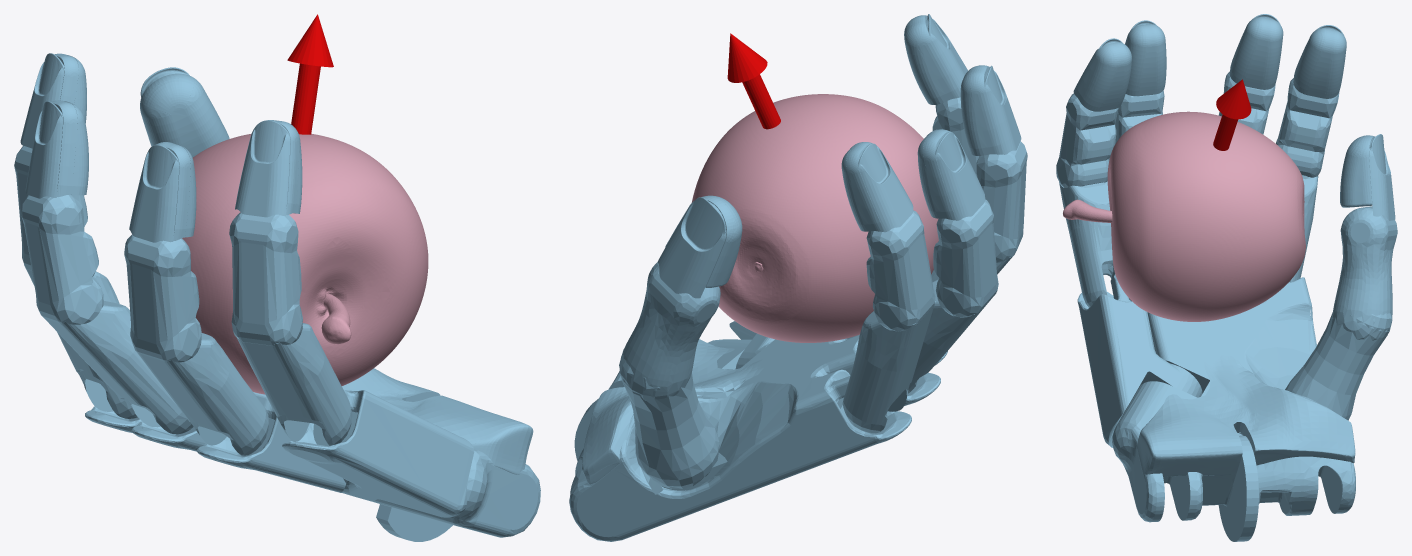
The picture shows the model from 3 angles, left to right: view 1: azimuth 30°, elevation 25°; view 2: azimuth 150°, elevation 25°; view 3: azimuth 270°, elevation 25°; orthographic projection. The views are drawn at different scales.
Visible parts, largest first — view 1: world, apple.stl; view 2: world, apple.stl; view 3: world, apple.stl.
Boxes of the visible parts, <box> form: world: <box>14,14,540,541</box>; apple.stl: <box>182,133,428,394</box>; world: <box>569,14,1027,541</box>; apple.stl: <box>691,94,938,342</box>; world: <box>1056,14,1397,541</box>; apple.stl: <box>1063,111,1305,321</box>.
Bounding box in the file's own units: 0.1442 × 0.1679 × 0.1241.
